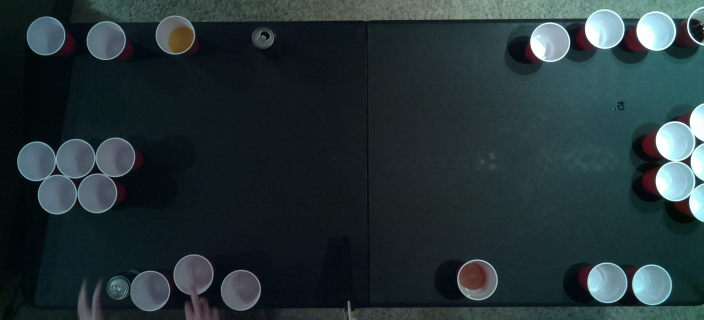active bp cup: (94, 136, 137, 177), (654, 120, 696, 161), (55, 137, 96, 179), (37, 174, 77, 215), (77, 174, 117, 214), (17, 141, 56, 182), (655, 163, 694, 201), (687, 100, 703, 141), (688, 183, 703, 224), (690, 142, 703, 181)
can: (248, 23, 275, 51), (102, 273, 129, 301)
drink cup: (455, 258, 498, 301), (152, 14, 196, 55), (686, 4, 703, 46)
inactive bp cup: (524, 21, 572, 63), (630, 261, 674, 305), (219, 268, 263, 311), (24, 14, 67, 57), (584, 263, 628, 305), (633, 10, 677, 52), (171, 253, 214, 295), (582, 8, 626, 49), (84, 21, 128, 61), (129, 271, 171, 311)
